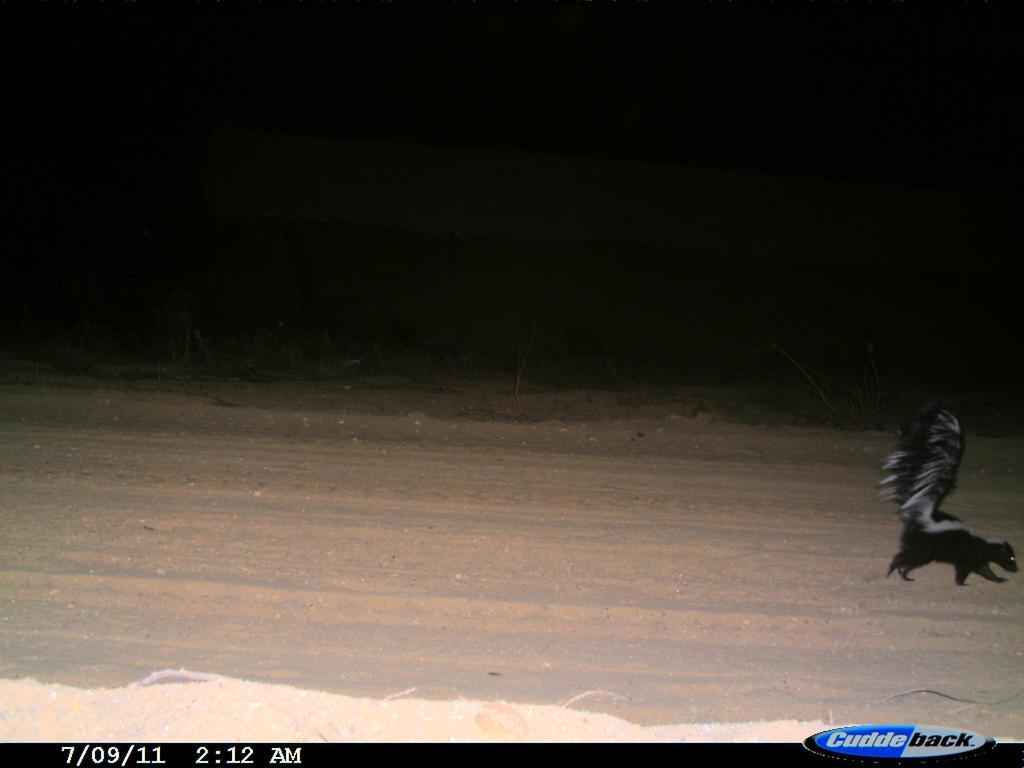skunk: (877, 383, 1023, 593)
